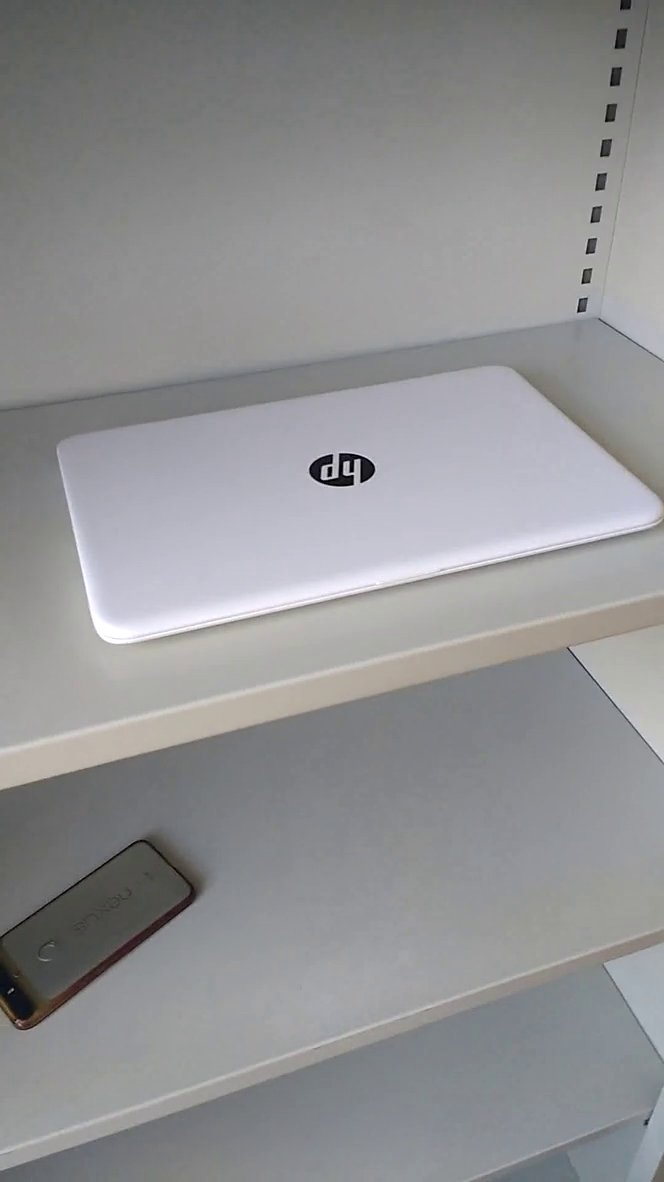laptop: (48, 347, 664, 658)
phone: (1, 826, 218, 1044)
